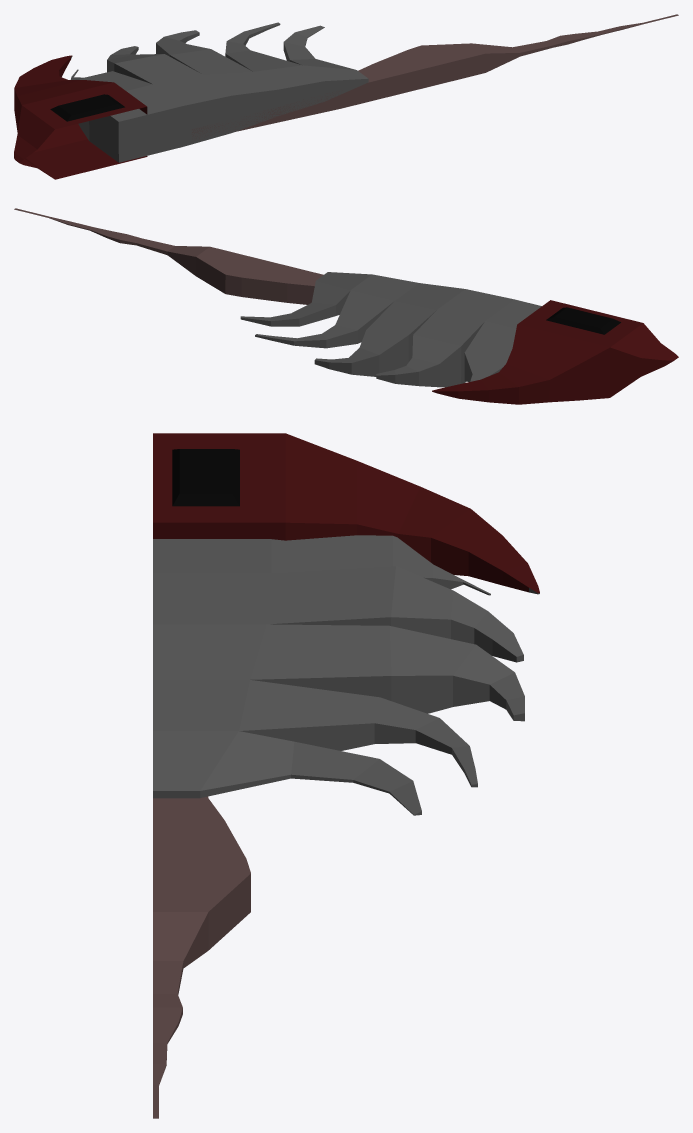
Rendered from Trilobite1.glb.
3 views of the same model, one above another, from view 1: azimuth 30°, elevation 25°; view 2: azimuth 150°, elevation 25°; view 3: azimuth 270°, elevation 25° (orthographic). The views are drawn at different scales.
Parts seen in each view (by area): view 1: Trilobeite1; view 2: Trilobeite1; view 3: Trilobeite1.
Boxes of the visible parts, <box> form: Trilobeite1: <box>14,14,678,179</box>; Trilobeite1: <box>14,208,678,404</box>; Trilobeite1: <box>153,433,539,1118</box>.
Size of the model in its own units: 1.43 by 0.1114 by 0.3626.
